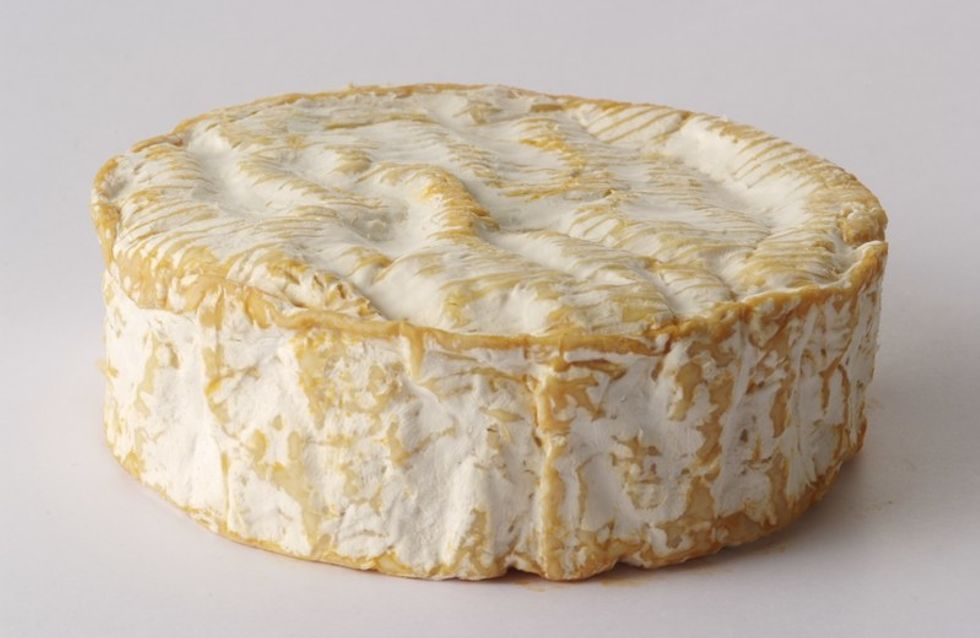camembert: (88, 82, 892, 587)
